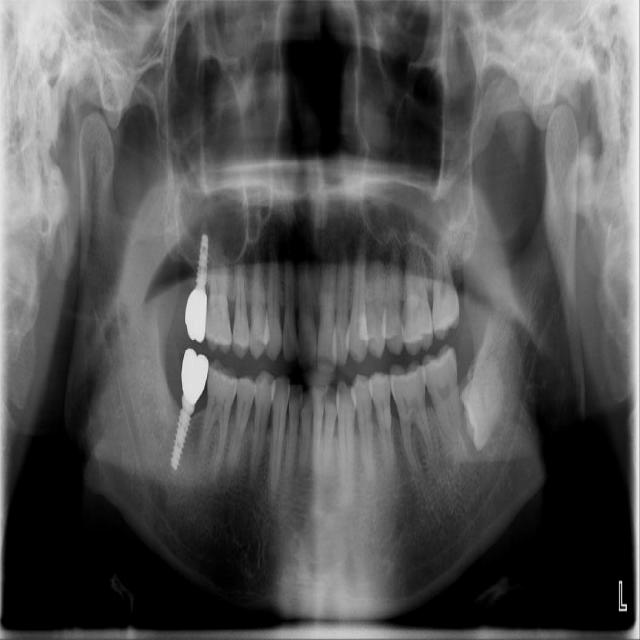Crown: (181, 348, 209, 404), (185, 289, 207, 343)
Implant: (169, 396, 193, 471), (195, 233, 210, 294)
impacted tooth: (461, 342, 505, 453)
